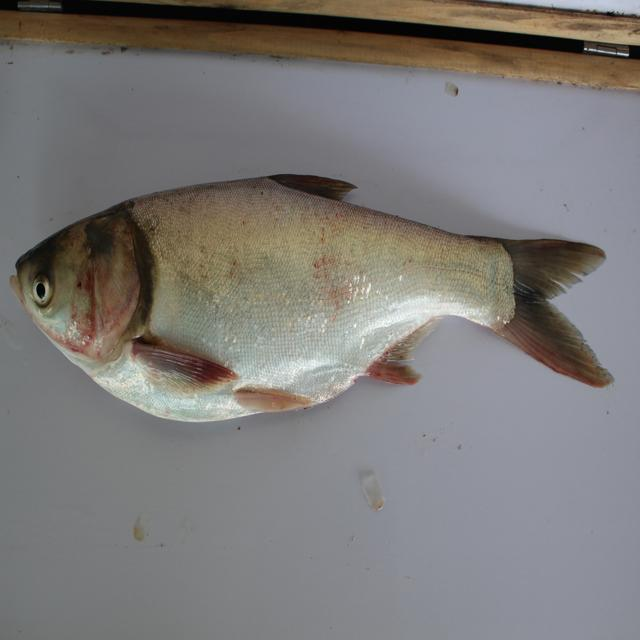SilverCarp: (18, 177, 615, 448)
